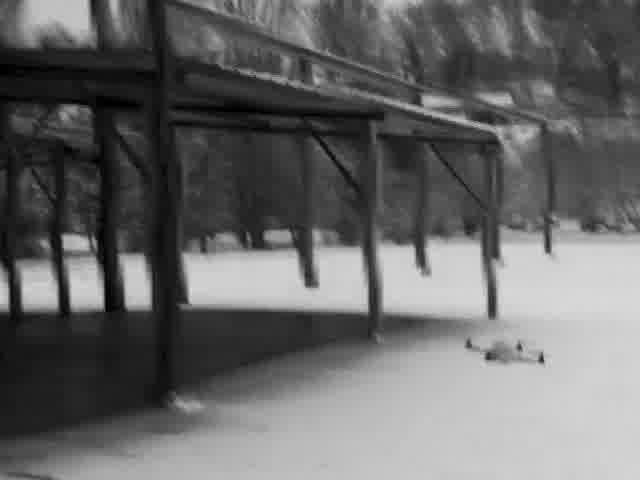drone: (455, 330, 555, 375)
